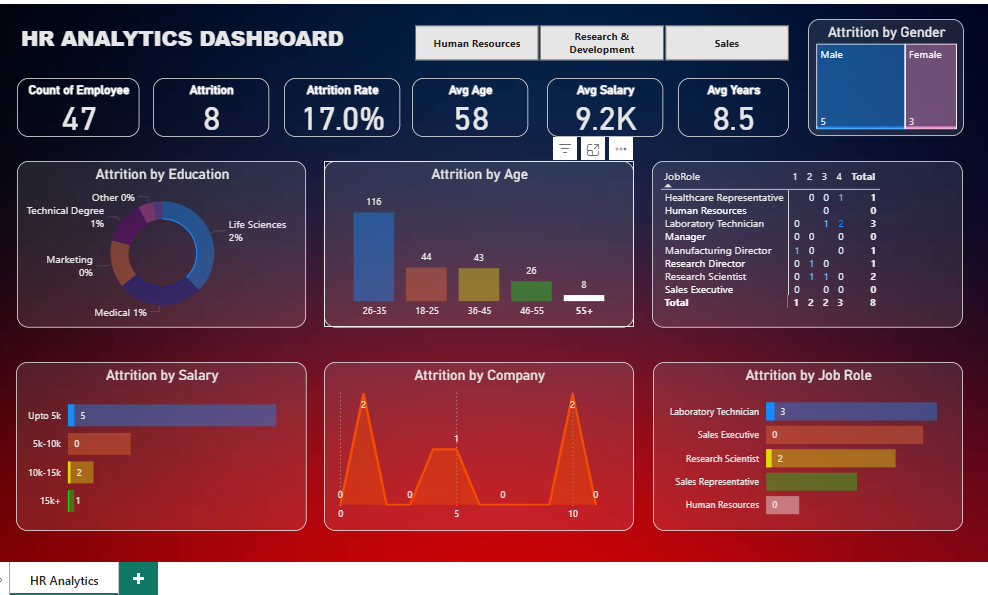

Layout of this report page (visuals, bound fields, positions):
{"tool":"powerbi","page":{"name":"Page 1","canvas":[1280,720],"ordinal":0},"visuals":[{"type":"card","title":"Count of Employee","fields":{"Values":["Count(HR_Analytics.EmpID)"]},"box":[26.4,95.1,158.5,75.7],"z":0},{"type":"card","title":"Attrition","fields":{"Values":["Sum(HR_Analytics.AttritionCount)"]},"box":[200.7,95.1,149.7,75.7],"z":1000},{"type":"card","title":"Attrition Rate","fields":{"Values":["HR_Analytics.AttritionRate"]},"box":[369.7,95.1,149.7,75.7],"z":2000},{"type":"card","title":"Avg Age","fields":{"Values":["Avg(HR_Analytics.Age)"]},"box":[535.2,95.1,149.7,75.7],"z":3000},{"type":"card","title":"Avg Years","fields":{"Values":["Avg(HR_Analytics.YearsAtCompany)"]},"box":[878.6,95.1,142.6,75.7],"z":4000},{"type":"card","title":"Avg Salary","fields":{"Values":["Avg(HR_Analytics.MonthlyIncome)"]},"box":[709.5,95.1,149.7,75.7],"z":5000},{"type":"donutChart","title":"Attrition by Education","fields":{"Category":["HR_Analytics.EducationField"],"Y":["Sum(HR_Analytics.AttritionCount)"]},"box":[26.4,202.5,373.3,214.8],"z":6000},{"type":"columnChart","title":"Attrition by Age","fields":{"Category":["HR_Analytics.AgeGroup"],"Y":["Sum(HR_Analytics.AttritionCount)"]},"box":[422.6,202.5,399.7,214.8],"z":7000},{"type":"pivotTable","fields":{"Rows":["HR_Analytics.JobRole"],"Columns":["HR_Analytics.JobSatisfaction"],"Values":["Sum(HR_Analytics.AttritionCount)"]},"box":[845.1,202.5,401.4,214.8],"z":8000},{"type":"barChart","title":"Attrition by Salary","fields":{"Category":["HR_Analytics.SalarySlab"],"Y":["Sum(HR_Analytics.AttritionCount)"]},"box":[24.6,461.3,375,218.3],"z":9000},{"type":"barChart","title":"Attrition by Job Role","fields":{"Y":["Sum(HR_Analytics.AttritionCount)"],"Category":["HR_Analytics.JobRole"]},"box":[846.9,461.3,399.7,218.3],"z":10000},{"type":"areaChart","title":"Attrition by Company","fields":{"Category":["HR_Analytics.YearsAtCompany"],"Y":["Sum(HR_Analytics.AttritionCount)"]},"box":[422.6,461.3,399.7,218.3],"z":11000},{"type":"treemap","title":"Attrition by Gender","fields":{"Values":["Sum(HR_Analytics.AttritionCount)"],"Group":["HR_Analytics.Gender"]},"box":[1045.8,19.4,200.7,151.4],"z":12000},{"type":"slicer","title":"Departments","fields":{"Values":["HR_Analytics.Department"]},"box":[513.4,20,532,58.6],"z":13000},{"type":"textbox","box":[25.7,20,463.4,60.1],"z":14000}]}

Visuals, with their boxes on the page's 1280x720 design canvas (x1, y1, x2, y2). These are canvas units, not pixel positions in the 988x595 screenshot, which may show the page scaled, cropped or inside an application window:
"Count of Employee" card: (26, 95, 185, 171)
"Attrition" card: (201, 95, 350, 171)
"Attrition Rate" card: (370, 95, 519, 171)
"Avg Age" card: (535, 95, 685, 171)
"Avg Years" card: (879, 95, 1021, 171)
"Avg Salary" card: (710, 95, 859, 171)
"Attrition by Education" donutChart: (26, 202, 400, 417)
"Attrition by Age" columnChart: (423, 202, 822, 417)
pivotTable - HR_Analytics.JobRole x HR_Analytics.JobSatisfaction: (845, 202, 1246, 417)
"Attrition by Salary" barChart: (25, 461, 400, 680)
"Attrition by Job Role" barChart: (847, 461, 1247, 680)
"Attrition by Company" areaChart: (423, 461, 822, 680)
"Attrition by Gender" treemap: (1046, 19, 1246, 171)
"Departments" slicer: (513, 20, 1045, 79)
textbox: (26, 20, 489, 80)
